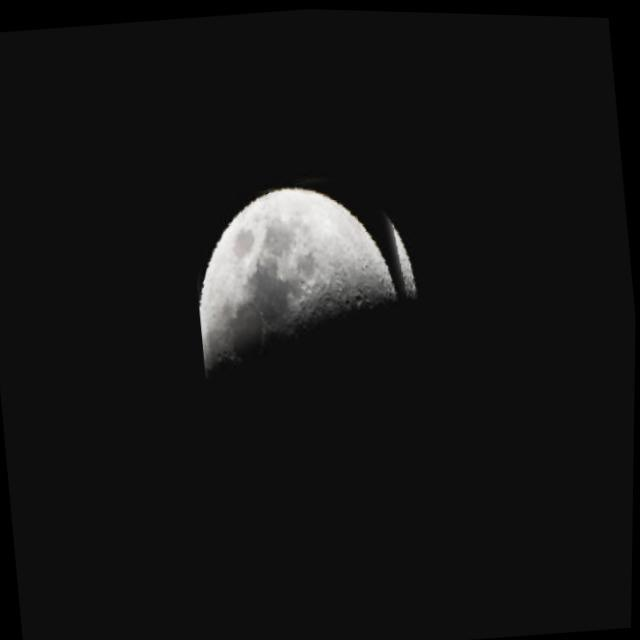moon: (184, 154, 447, 494)
